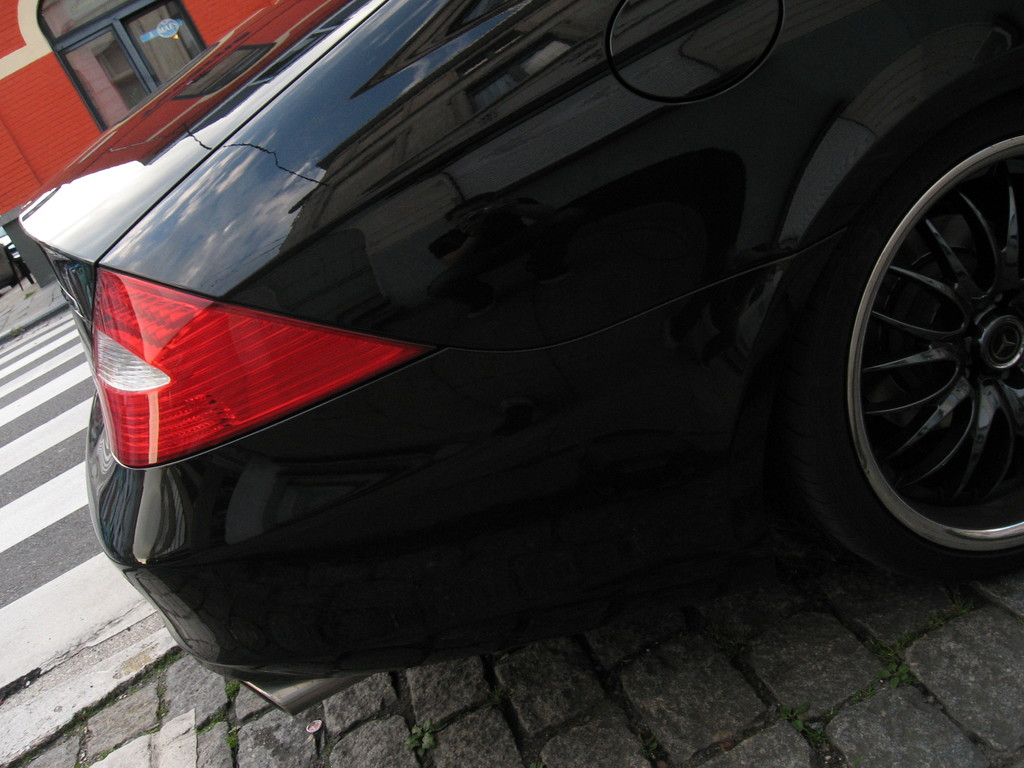car: (20, 1, 1024, 729)
